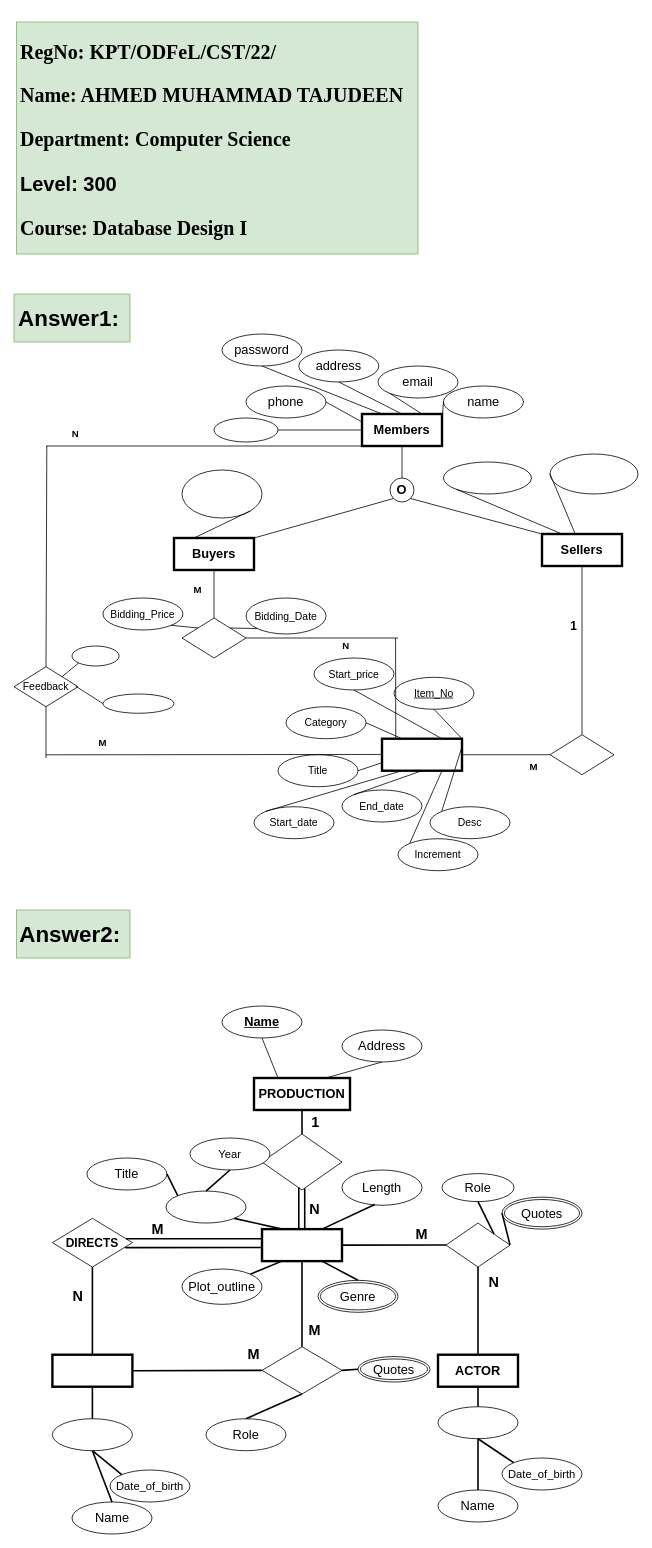
Some shapes in this 652 by 1548 pixel diagram are drawn without their labels. The centre of each missing label's shape, as x and y in pixels:
Account_No: (487,477)
ACTS: (477,1244)
Akey: (477,1422)
Bids: (213,637)
Comment: (138,703)
DIR_ACTS: (301,1370)
DIRECTOR: (92,1370)
Dkey: (92,1434)
ID: (245,429)
Items: (421,754)
Mkey: (205,1206)
MOVIE: (301,1245)
Place: (581,754)
PRODUCES: (301,1161)
Rate: (95,655)
Routing Number: (593,473)
Shipping Address: (221,493)
